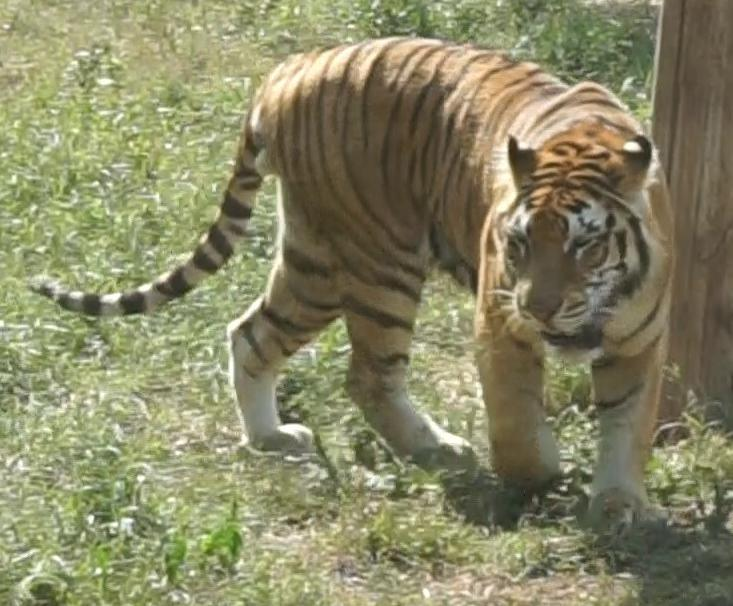tiger: (36, 37, 675, 520)
